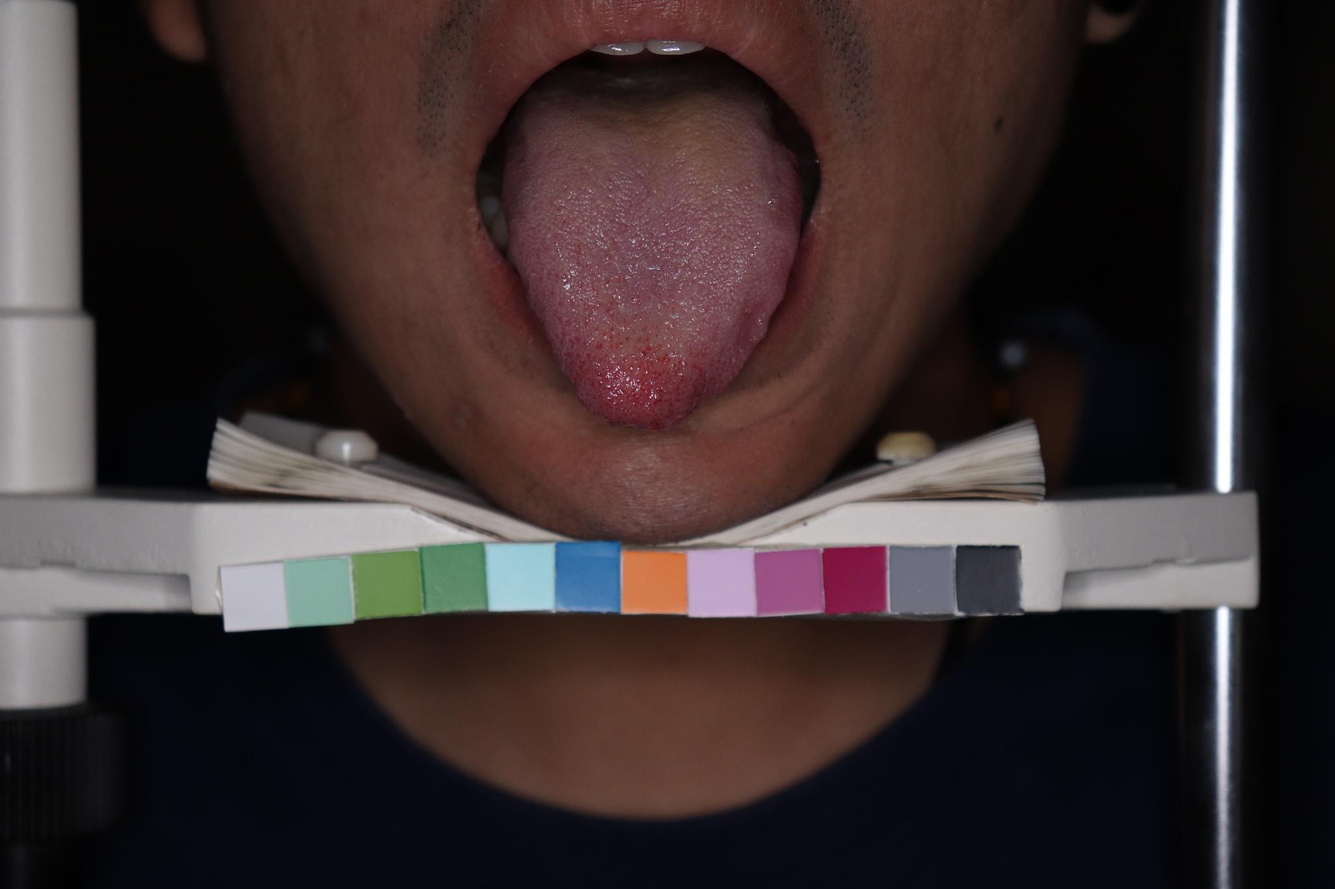baitaishe: (504, 63, 804, 430)
chihenshe: (764, 227, 802, 298)
hongdianshe: (652, 397, 664, 406), (594, 342, 603, 350), (640, 349, 645, 358), (676, 357, 682, 364), (624, 336, 630, 342)
huangtaishe: (504, 63, 804, 430)
